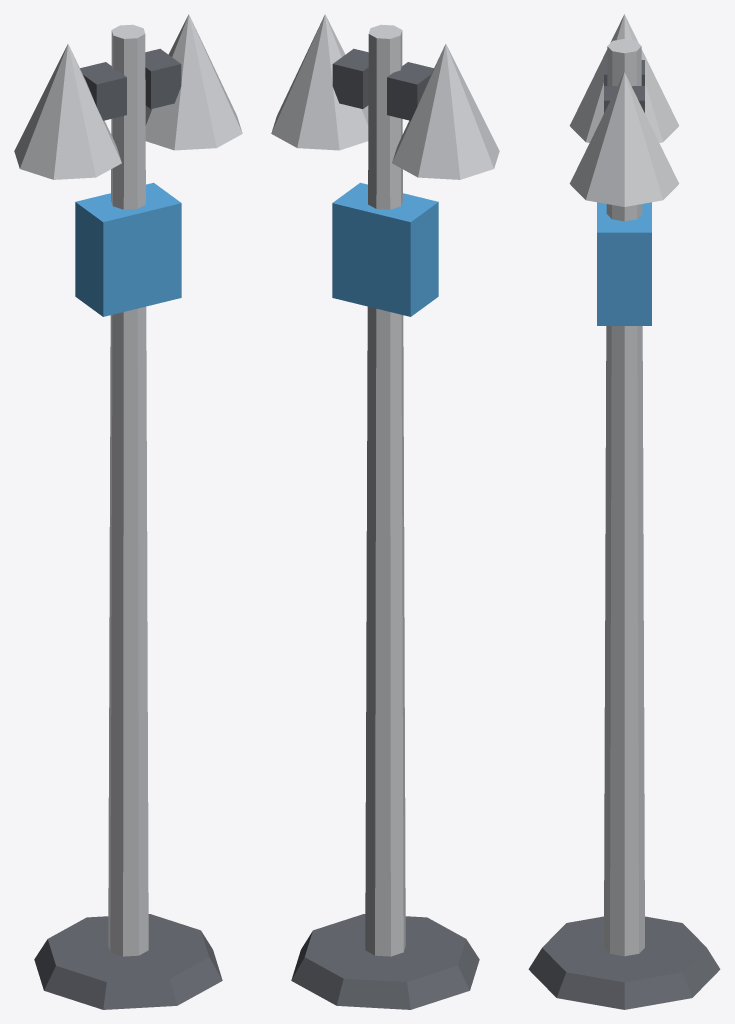
Rendered from dog-agility-and-training-field-pa-speaker-post-8d62a208.glb.
The picture shows the model from 3 angles, left to right: view 1: azimuth 30°, elevation 25°; view 2: azimuth 150°, elevation 25°; view 3: azimuth 270°, elevation 25°; orthographic projection.
Parts seen in each view (by area): view 1: pa-speaker-post-steel, pa-speaker-post-charcoal, pa-speaker-post-azure; view 2: pa-speaker-post-steel, pa-speaker-post-charcoal, pa-speaker-post-azure; view 3: pa-speaker-post-steel, pa-speaker-post-charcoal, pa-speaker-post-azure.
Part boxes in pixels (bbox=[...]): pa-speaker-post-steel: bbox=[14, 14, 242, 956]; pa-speaker-post-charcoal: bbox=[34, 48, 222, 1009]; pa-speaker-post-azure: bbox=[75, 182, 181, 316]; pa-speaker-post-steel: bbox=[271, 14, 499, 956]; pa-speaker-post-charcoal: bbox=[291, 48, 479, 1009]; pa-speaker-post-azure: bbox=[332, 182, 438, 316]; pa-speaker-post-steel: bbox=[569, 14, 679, 956]; pa-speaker-post-charcoal: bbox=[528, 60, 720, 1009]; pa-speaker-post-azure: bbox=[597, 202, 651, 325].
Size of the model in its own units: 0.7201 by 2.98 by 0.56.
